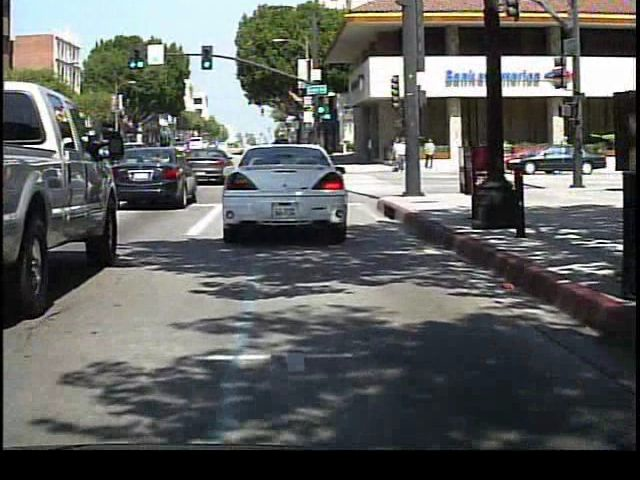person: (486, 135, 506, 172), (422, 135, 439, 169), (393, 137, 406, 176)
